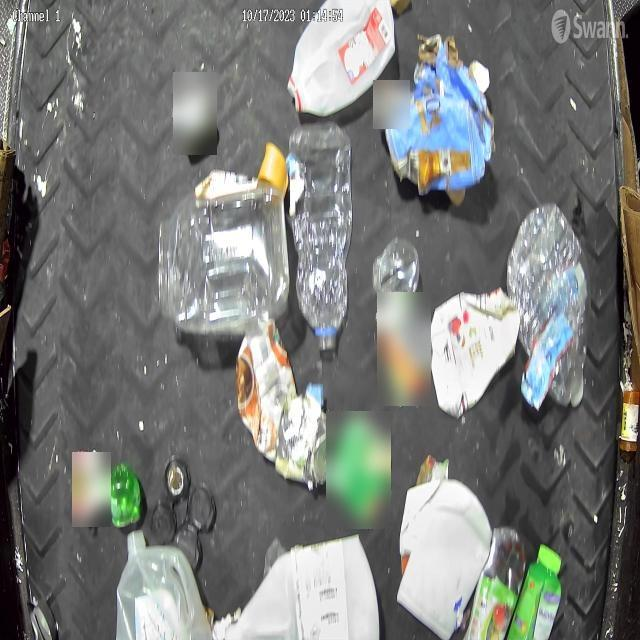milk_jug: (286, 1, 396, 120), (116, 532, 213, 640)
plastic_bottle: (506, 202, 587, 407), (287, 122, 353, 351)
